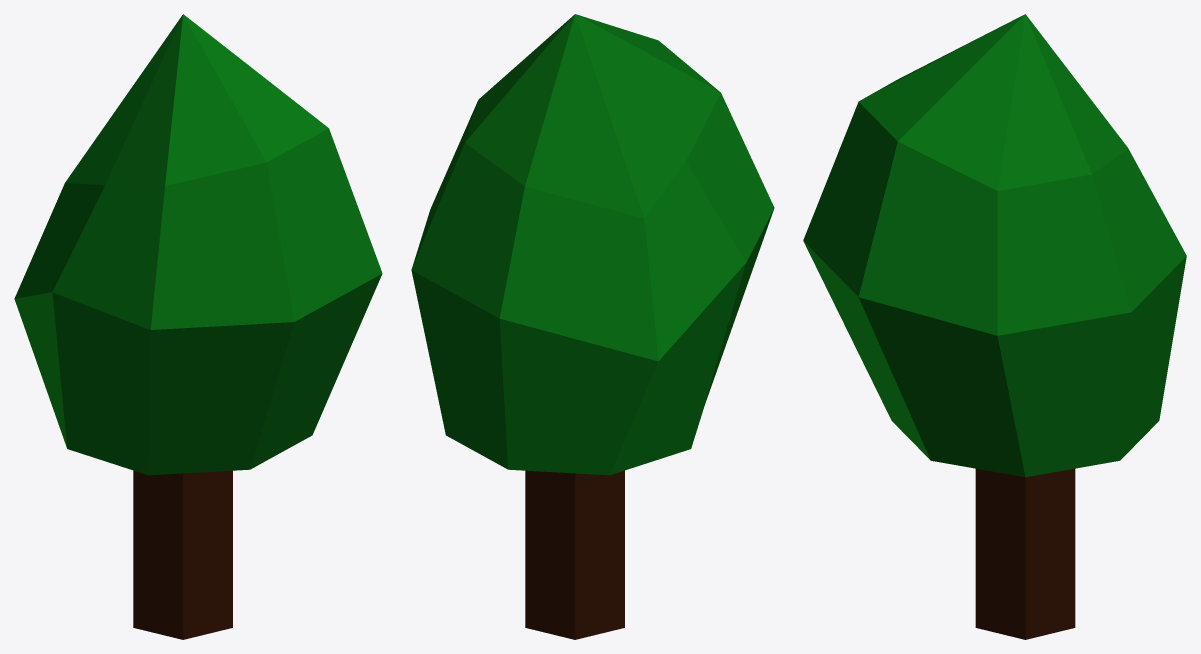
Rendered from tree1.fbx.
The picture shows the model from 3 angles, left to right: view 1: azimuth 30°, elevation 25°; view 2: azimuth 150°, elevation 25°; view 3: azimuth 270°, elevation 25°; orthographic projection.
Visible parts, largest first — view 1: Sphere001, Cylinder001; view 2: Sphere001, Cylinder001; view 3: Sphere001, Cylinder001.
Boxes of the visible parts, x1,y1,x2,y2 form: Sphere001: [14, 14, 382, 475]; Cylinder001: [133, 470, 232, 639]; Sphere001: [411, 14, 774, 475]; Cylinder001: [525, 470, 624, 639]; Sphere001: [803, 14, 1186, 477]; Cylinder001: [975, 468, 1075, 639].
Bounding box in the file's own units: 56.09 × 104 × 60.17.
